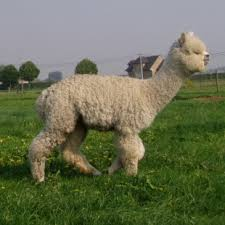alpaca: (25, 30, 211, 187)
